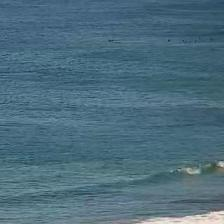surfer: (108, 38, 114, 42), (194, 39, 198, 44), (167, 39, 171, 43), (181, 38, 185, 42), (210, 37, 214, 41)
